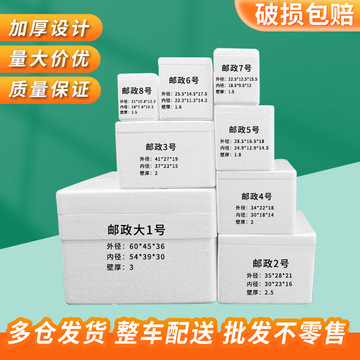Boxes: (57, 49, 314, 303)
